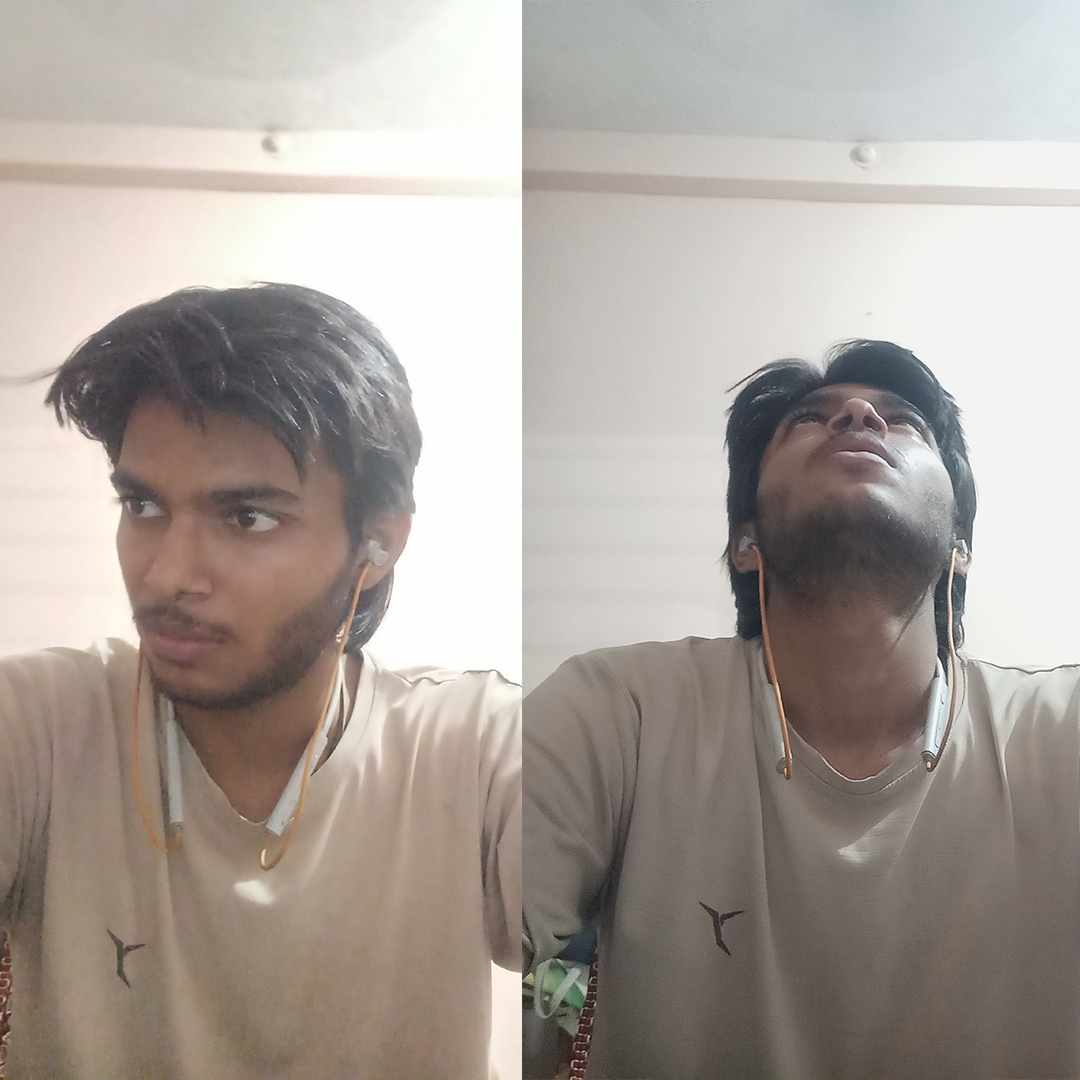distracted: (40, 278, 439, 767), (684, 276, 1013, 640)
